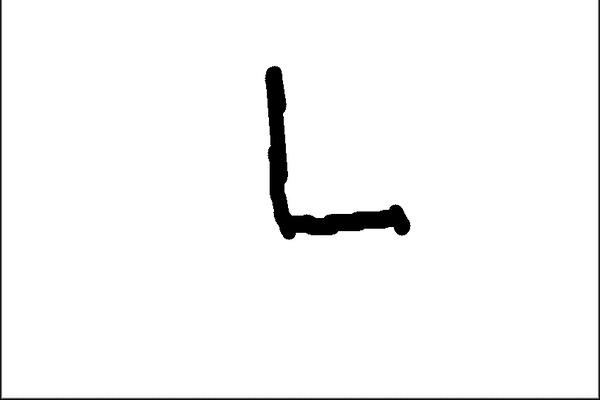L: (256, 59, 417, 245)
